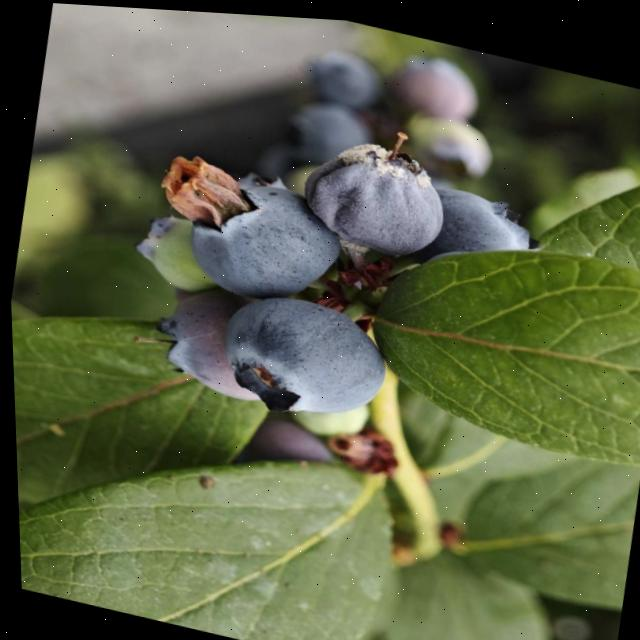RipeBlueBerry: (162, 152, 355, 312), (207, 277, 397, 433), (291, 124, 452, 260), (417, 173, 544, 267)
